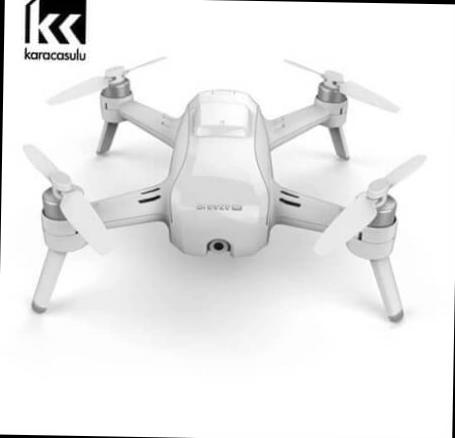drone: (3, 52, 446, 300)
